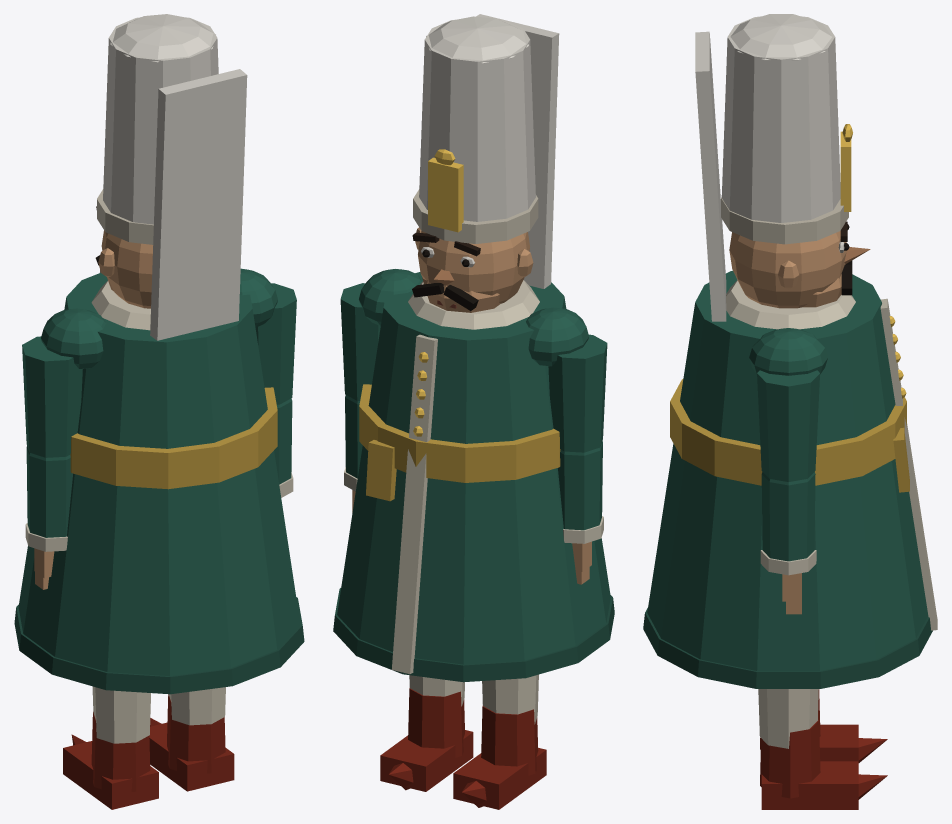
File: yeniceri-4.glb
3 renders of one model, left to right at view 1: azimuth 30°, elevation 25°; view 2: azimuth 150°, elevation 25°; view 3: azimuth 270°, elevation 25°, orthographic. The views are drawn at different scales.
Visible parts, largest first — view 1: govde, bas, kolL, bacakL, bacakR, kolR; view 2: govde, bas, kolL, bacakL, bacakR, kolR; view 3: govde, bas, kolR, bacakR, bacakL.
Part boxes in pixels (left/top/right/bottom): govde: left=14, top=268, right=304, bottom=694; bas: left=95, top=14, right=247, bottom=340; kolL: left=22, top=336, right=82, bottom=589; bacakL: left=63, top=686, right=158, bottom=809; bacakR: left=149, top=687, right=234, bottom=791; kolR: left=255, top=283, right=296, bottom=497; govde: left=333, top=269, right=614, bottom=682; bas: left=412, top=14, right=559, bottom=312; kolL: left=548, top=334, right=607, bottom=584; bacakL: left=453, top=674, right=546, bottom=809; bacakR: left=380, top=675, right=473, bottom=791; kolR: left=340, top=283, right=380, bottom=512; govde: left=643, top=270, right=937, bottom=688; bas: left=695, top=14, right=870, bottom=321; kolR: left=757, top=370, right=819, bottom=614; bacakR: left=758, top=689, right=887, bottom=809; bacakL: left=760, top=689, right=887, bottom=762.
Bounding box in the file's own units: 0.856 × 2.34 × 0.8207.
